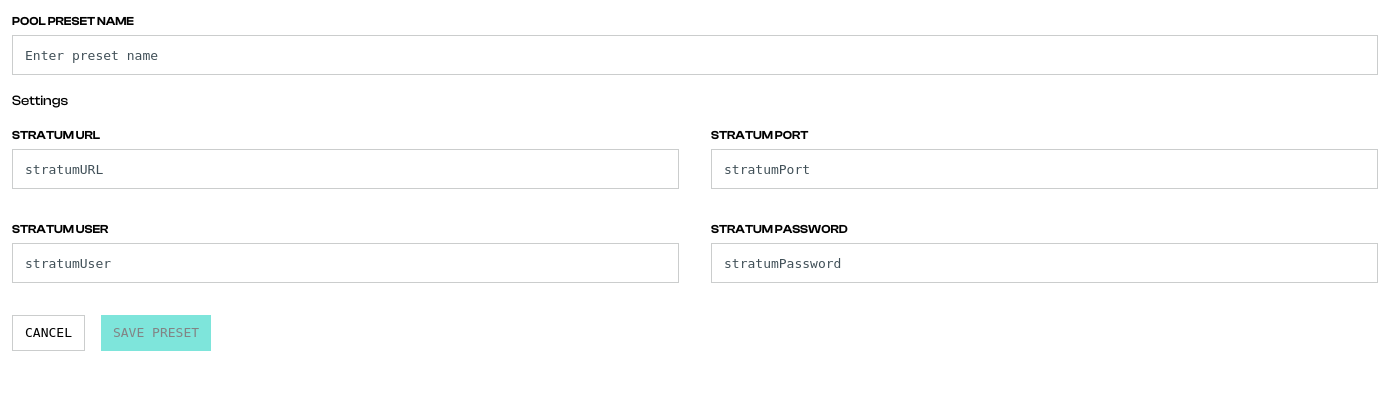
Scenario: PresetEditor › shows required validation when a field is cleared
Type "pool.example.com" into the field labelled "Stratum URL" at [346, 169], box [12,149,679,189]
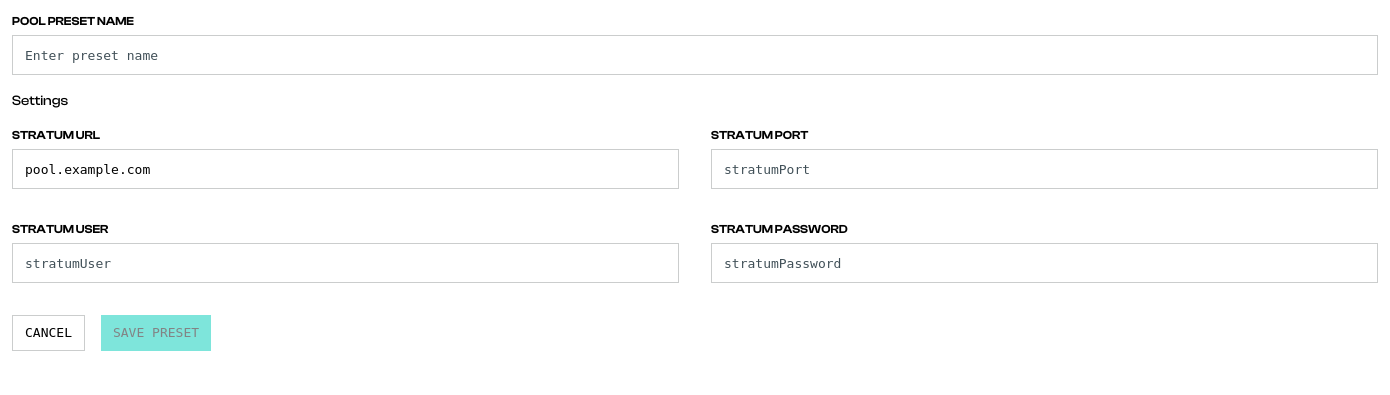
Clear the field labelled "Stratum URL" at [346, 169], box [12,149,679,189]
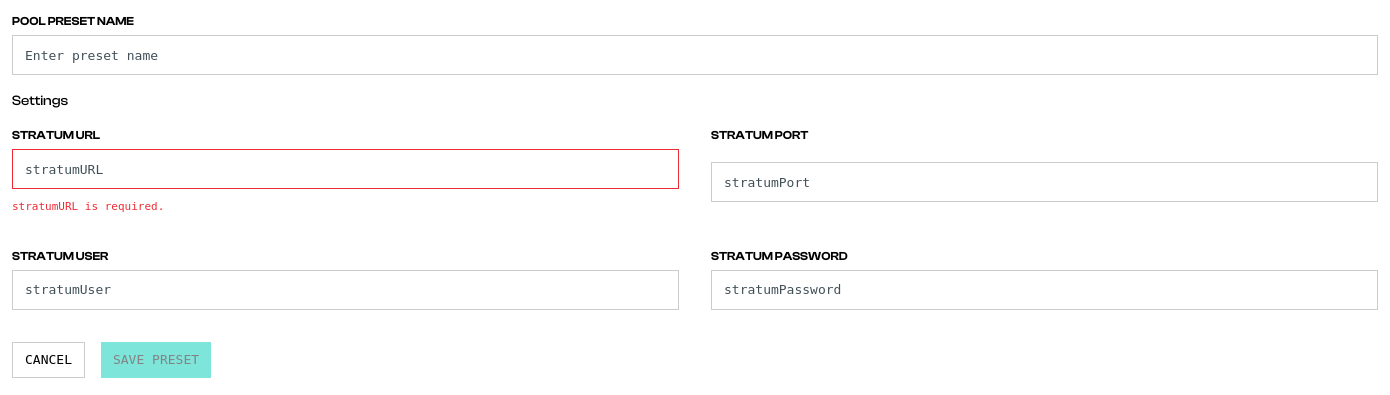
Check: the text "stratumURL is required." is shown, box [12,200,164,213]
